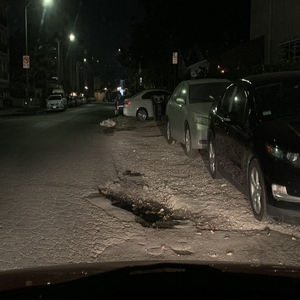pothole: (95, 187, 177, 233)
